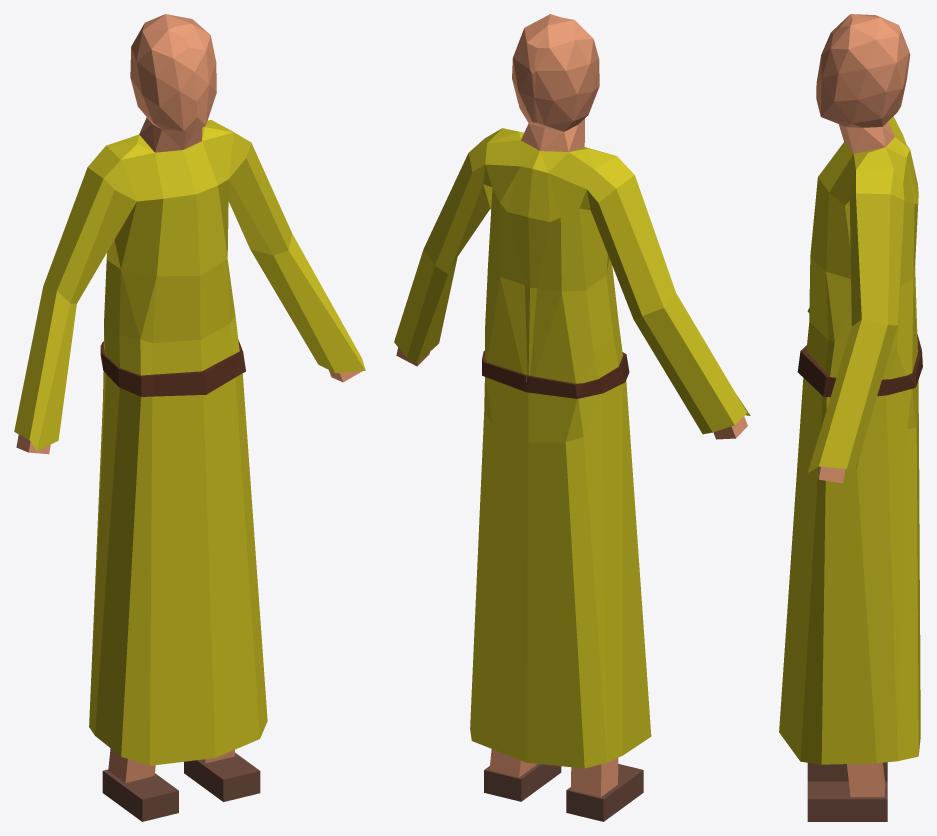
File: people_clear.fbx
3 views of the same model, side by side, from view 1: azimuth 30°, elevation 25°; view 2: azimuth 150°, elevation 25°; view 3: azimuth 270°, elevation 25° (orthographic).
Visible parts, largest first — view 1: Icosphere; view 2: Icosphere; view 3: Icosphere.
Part boxes in pixels (x1,y1,x2,y2): Icosphere: [14, 14, 365, 821]; Icosphere: [394, 14, 750, 821]; Icosphere: [779, 14, 922, 821].
Bounding box in the file's own units: 105 × 228 × 38.38.
